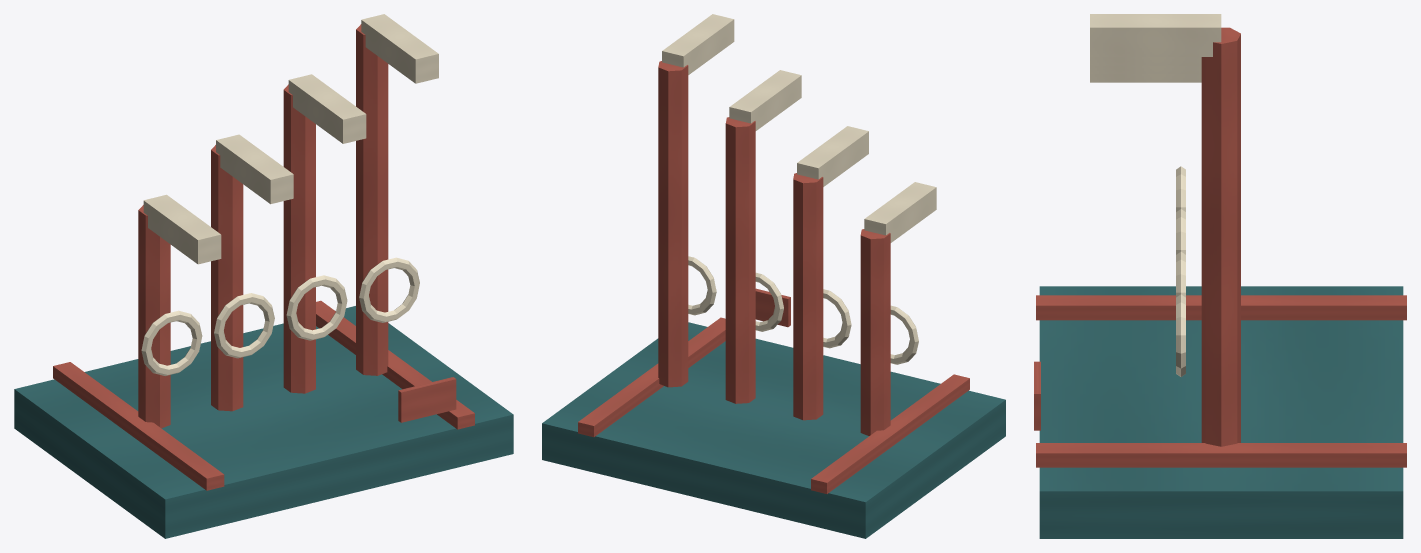
The model's file is atlas100-s034-a03.lod1.glb.
3 views of the same model, side by side, from view 1: azimuth 30°, elevation 25°; view 2: azimuth 150°, elevation 25°; view 3: azimuth 270°, elevation 25° (orthographic). The views are drawn at different scales.
Parts seen in each view (by area): view 1: atlas100-s034-a03:part-000, atlas100-s034-a03:part-012, atlas100-s034-a03:part-009, atlas100-s034-a03:part-006, atlas100-s034-a03:part-003, atlas100-s034-a03:part-001, atlas100-s034-a03:part-005, atlas100-s034-a03:part-011, atlas100-s034-a03:part-014, atlas100-s034-a03:part-008, atlas100-s034-a03:part-002, atlas100-s034-a03:part-015 (+4 smaller); view 2: atlas100-s034-a03:part-000, atlas100-s034-a03:part-012, atlas100-s034-a03:part-009, atlas100-s034-a03:part-006, atlas100-s034-a03:part-003, atlas100-s034-a03:part-001, atlas100-s034-a03:part-002, atlas100-s034-a03:part-011, atlas100-s034-a03:part-005, atlas100-s034-a03:part-014, atlas100-s034-a03:part-008, atlas100-s034-a03:part-015 (+4 smaller); view 3: atlas100-s034-a03:part-000, atlas100-s034-a03:part-012, atlas100-s034-a03:part-002, atlas100-s034-a03:part-001, atlas100-s034-a03:part-014, atlas100-s034-a03:part-005, atlas100-s034-a03:part-008, atlas100-s034-a03:part-011, atlas100-s034-a03:part-013, atlas100-s034-a03:part-015.
Boxes of the visible parts, x1=… form: atlas100-s034-a03:part-000: x1=14, y1=306, x2=513, y2=538; atlas100-s034-a03:part-012: x1=356, y1=24, x2=388, y2=375; atlas100-s034-a03:part-009: x1=283, y1=84, x2=315, y2=393; atlas100-s034-a03:part-006: x1=211, y1=145, x2=243, y2=411; atlas100-s034-a03:part-003: x1=138, y1=205, x2=170, y2=428; atlas100-s034-a03:part-001: x1=53, y1=362, x2=224, y2=490; atlas100-s034-a03:part-005: x1=143, y1=194, x2=221, y2=264; atlas100-s034-a03:part-011: x1=288, y1=74, x2=366, y2=143; atlas100-s034-a03:part-014: x1=361, y1=14, x2=438, y2=83; atlas100-s034-a03:part-008: x1=216, y1=134, x2=293, y2=204; atlas100-s034-a03:part-002: x1=316, y1=300, x2=474, y2=429; atlas100-s034-a03:part-015: x1=398, y1=377, x2=456, y2=422; atlas100-s034-a03:part-000: x1=542, y1=322, x2=1005, y2=538; atlas100-s034-a03:part-012: x1=658, y1=61, x2=688, y2=387; atlas100-s034-a03:part-009: x1=725, y1=117, x2=755, y2=403; atlas100-s034-a03:part-006: x1=793, y1=173, x2=823, y2=420; atlas100-s034-a03:part-003: x1=860, y1=229, x2=890, y2=435; atlas100-s034-a03:part-001: x1=811, y1=374, x2=969, y2=493; atlas100-s034-a03:part-002: x1=578, y1=317, x2=725, y2=437; atlas100-s034-a03:part-011: x1=729, y1=70, x2=801, y2=130; atlas100-s034-a03:part-005: x1=864, y1=182, x2=936, y2=242; atlas100-s034-a03:part-014: x1=662, y1=14, x2=734, y2=74; atlas100-s034-a03:part-008: x1=797, y1=126, x2=868, y2=186; atlas100-s034-a03:part-015: x1=755, y1=288, x2=790, y2=327; atlas100-s034-a03:part-000: x1=1039, y1=286, x2=1403, y2=538; atlas100-s034-a03:part-012: x1=1201, y1=27, x2=1240, y2=446; atlas100-s034-a03:part-002: x1=1036, y1=443, x2=1406, y2=467; atlas100-s034-a03:part-001: x1=1036, y1=295, x2=1406, y2=320; atlas100-s034-a03:part-014: x1=1090, y1=14, x2=1221, y2=56; atlas100-s034-a03:part-005: x1=1090, y1=74, x2=1201, y2=82; atlas100-s034-a03:part-008: x1=1090, y1=65, x2=1201, y2=73; atlas100-s034-a03:part-011: x1=1090, y1=57, x2=1201, y2=65; atlas100-s034-a03:part-013: x1=1176, y1=294, x2=1185, y2=376; atlas100-s034-a03:part-015: x1=1034, y1=361, x2=1040, y2=430.
Bounding box in the file's own units: 2.4 × 2.62 × 1.85.
Materials: 3 (3 with a texture image).
